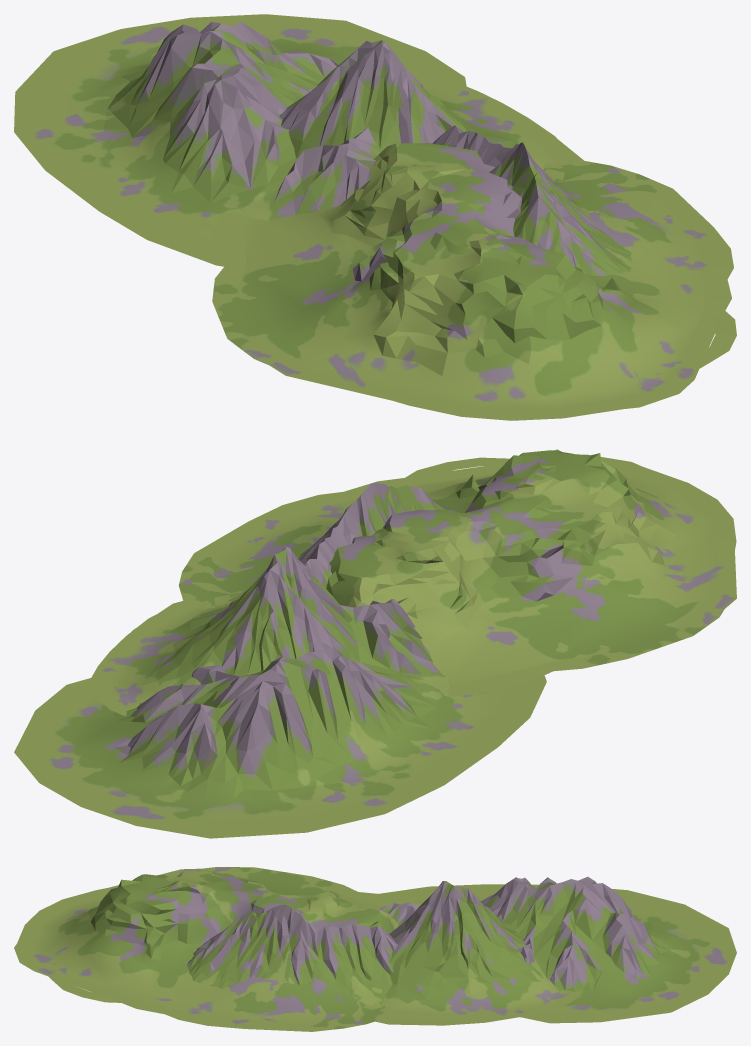
The model's file is build_mountain_I 1.FBX.
The picture shows the model from 3 angles, top to bottom: view 1: azimuth 30°, elevation 25°; view 2: azimuth 150°, elevation 25°; view 3: azimuth 270°, elevation 25°; orthographic projection. The views are drawn at different scales.
Parts seen in each view (by area): view 1: mountaion_Egypt_B_0, mountain_D_grass_LOD0_0, mountain_D_grass_edge_LOD0_0, mountain_B_grass_LOD0_0, mountaion_Egypt_B_tree_0, mountain_C_grass_LOD0_0, mountaion_Egypt_B_edge_0, mountain_B_grass_edge_LOD0_0; view 2: mountaion_Egypt_B_0, mountain_D_grass_LOD0_0, mountain_B_grass_LOD0_0, mountain_D_grass_edge_LOD0_0, mountaion_Egypt_B_tree_0, mountaion_Egypt_B_edge_0, mountain_C_grass_LOD0_0, mountain_B_grass_edge_LOD0_0; view 3: mountaion_Egypt_B_0, mountain_D_grass_LOD0_0, mountain_B_grass_LOD0_0, mountain_C_grass_LOD0_0, mountain_D_grass_edge_LOD0_0, mountaion_Egypt_B_tree_0, mountaion_Egypt_B_edge_0, mountain_B_grass_edge_LOD0_0.
Boxes of the visible parts, left/top/right/bottom form: mountaion_Egypt_B_0: left=233, top=143, right=705, bottom=409; mountain_D_grass_LOD0_0: left=53, top=22, right=418, bottom=242; mountain_D_grass_edge_LOD0_0: left=14, top=14, right=583, bottom=266; mountain_B_grass_LOD0_0: left=279, top=40, right=559, bottom=169; mountaion_Egypt_B_tree_0: left=212, top=159, right=736, bottom=420; mountain_C_grass_LOD0_0: left=432, top=125, right=633, bottom=276; mountaion_Egypt_B_edge_0: left=212, top=167, right=715, bottom=418; mountain_B_grass_edge_LOD0_0: left=412, top=73, right=573, bottom=168; mountaion_Egypt_B_0: left=199, top=449, right=718, bottom=687; mountain_D_grass_LOD0_0: left=45, top=599, right=506, bottom=824; mountain_B_grass_LOD0_0: left=108, top=546, right=359, bottom=708; mountain_D_grass_edge_LOD0_0: left=14, top=601, right=546, bottom=838; mountaion_Egypt_B_tree_0: left=178, top=454, right=736, bottom=696; mountaion_Egypt_B_edge_0: left=194, top=466, right=736, bottom=687; mountain_C_grass_LOD0_0: left=207, top=482, right=445, bottom=608; mountain_B_grass_edge_LOD0_0: left=90, top=601, right=208, bottom=716; mountaion_Egypt_B_0: left=32, top=870, right=398, bottom=1025; mountain_D_grass_LOD0_0: left=379, top=876, right=711, bottom=1012; mountain_B_grass_LOD0_0: left=380, top=881, right=569, bottom=1014; mountain_C_grass_LOD0_0: left=187, top=904, right=398, bottom=1009; mountain_D_grass_edge_LOD0_0: left=375, top=884, right=736, bottom=1025; mountaion_Egypt_B_tree_0: left=14, top=867, right=420, bottom=1031; mountaion_Egypt_B_edge_0: left=17, top=867, right=392, bottom=1031; mountain_B_grass_edge_LOD0_0: left=380, top=990, right=583, bottom=1020.
Bounding box in the file's own units: 33.19 × 8.39 × 61.48.
